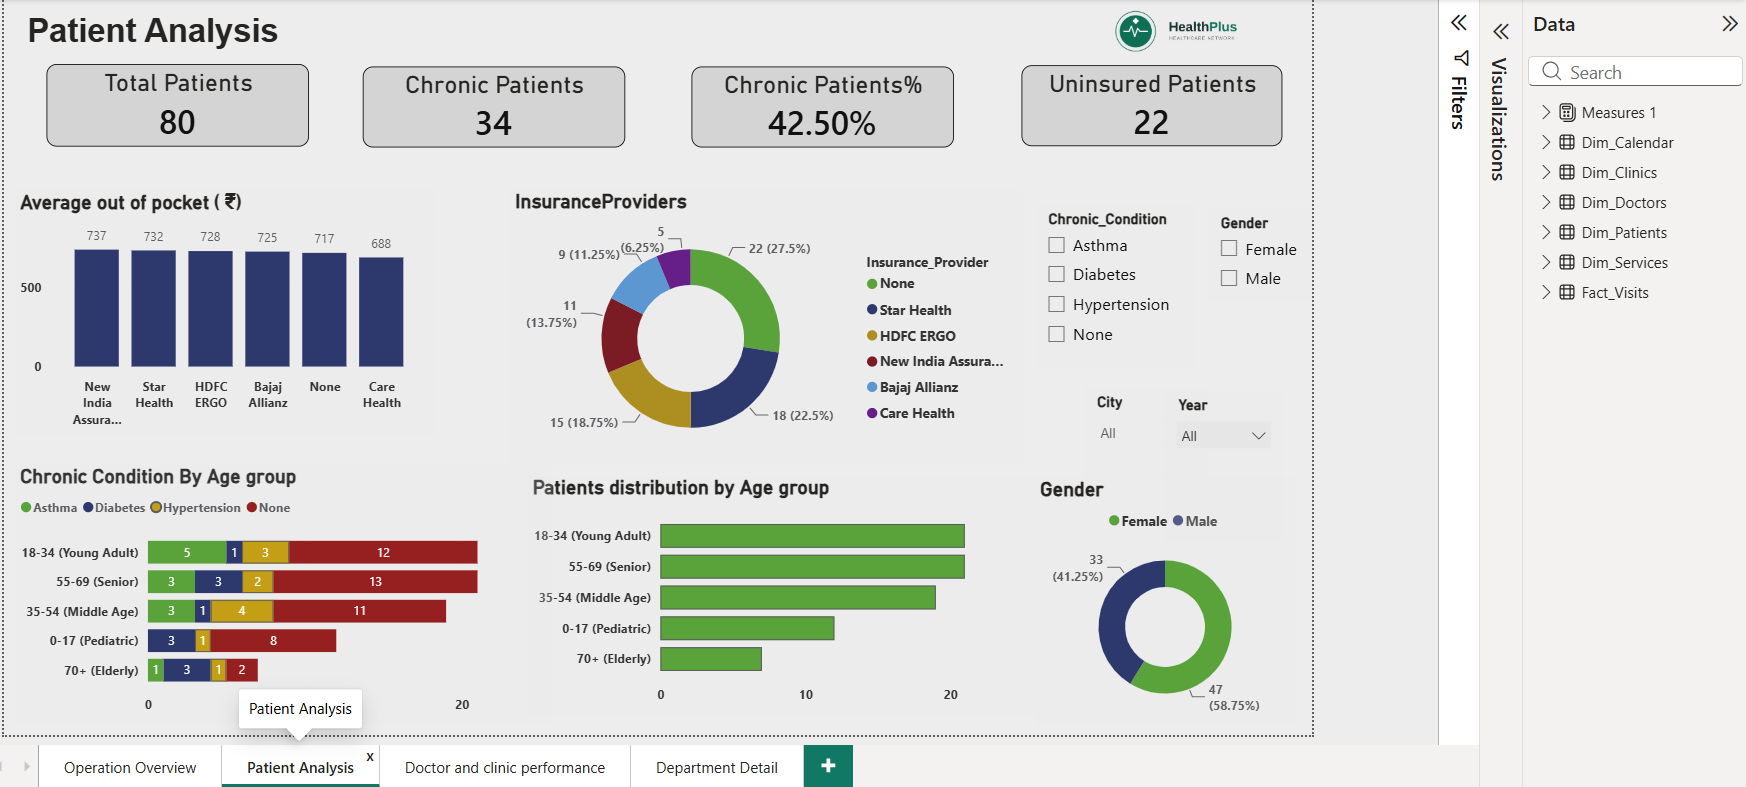

What the dashboard file says about the page in this screenshot:
{"tool":"powerbi","page":{"name":"Patient Analysis","canvas":[1280,720],"ordinal":1},"visuals":[{"type":"donutChart","title":"Gender","fields":{"Category":["Dim_Patients.Gender"],"Y":["Dim_Patients.Patients"]},"box":[1008.8,468.3,254.3,240.9],"z":0},{"type":"clusteredBarChart","title":"Patients distribution by Age group","fields":{"Category":["Dim_Patients.Age group"],"Y":["Dim_Patients.Patients"]},"box":[512.4,467.1,496.5,232.3],"z":1000},{"type":"barChart","title":" Chronic Condition By Age group","fields":{"Category":["Dim_Patients.Age group"],"Series":["Dim_Patients.Chronic_Condition"],"Y":["Dim_Patients.Patients"]},"box":[11,456.1,525.8,253.1],"z":2000},{"type":"donutChart","title":" InsuranceProviders","fields":{"Category":["Dim_Patients.Insurance_Provider"],"Y":["Dim_Patients.Patients"]},"box":[495.2,187.1,501.4,269],"z":3000},{"type":"clusteredColumnChart","title":" Average out of pocket ( ₹)","fields":{"Category":["Dim_Patients.Insurance_Provider"],"Y":["Fact_Visits.avg out of pocket"]},"box":[11,185.9,408.4,240.9],"z":4000},{"type":"cardVisual","title":"Total Patients","fields":{"Data":["Fact_Visits.Total Patients"]},"box":[41.6,63.6,256.8,80.7],"z":5000},{"type":"cardVisual","title":"Chronic Patients","fields":{"Data":["Measures 1.patient with chronic condition"]},"box":[351,66,256.8,79.5],"z":6000},{"type":"cardVisual","title":"Uninsured Patients","fields":{"Data":["Measures 1.Uninsured Patients"]},"box":[995.4,64.8,255.6,79.5],"z":7000},{"type":"slicer","fields":{"Values":["Dim_Patients.Gender"]},"box":[1177.6,205.4,102.7,90.5],"z":8000},{"type":"slicer","fields":{"Values":["Dim_Patients.Chronic_Condition"]},"box":[1008.8,201.8,157.7,157.7],"z":9000},{"type":"textbox","box":[0,8.6,1105.4,55],"z":10000},{"type":"slicer","fields":{"Values":["Dim_Clinics.City"]},"box":[1056.5,380.3,121.1,88],"z":11000},{"type":"slicer","fields":{"Values":["Dim_Calendar.Year"]},"box":[1136,384,113.7,145.5],"z":12000},{"type":"cardVisual","title":"Chronic Patients%","fields":{"Data":["Measures 1.chronic condition %"]},"box":[672.6,66,256.8,79.5],"z":13000},{"type":"image","box":[1072.1,0,207.9,63.6],"z":14000}]}

Visuals, with their boxes on the page's 1280x720 design canvas (x1, y1, x2, y2). These are canvas units, not pixel positions in the 1746x787 screenshot, which may show the page scaled, cropped or inside an application window:
"Gender" donutChart: x1=1009 y1=468 x2=1263 y2=709
"Patients distribution by Age group" clusteredBarChart: x1=512 y1=467 x2=1009 y2=699
" Chronic Condition By Age group" barChart: x1=11 y1=456 x2=537 y2=709
" InsuranceProviders" donutChart: x1=495 y1=187 x2=997 y2=456
" Average out of pocket ( ₹)" clusteredColumnChart: x1=11 y1=186 x2=419 y2=427
"Total Patients" cardVisual: x1=42 y1=64 x2=298 y2=144
"Chronic Patients" cardVisual: x1=351 y1=66 x2=608 y2=146
"Uninsured Patients" cardVisual: x1=995 y1=65 x2=1251 y2=144
slicer - Dim_Patients.Gender: x1=1178 y1=205 x2=1280 y2=296
slicer - Dim_Patients.Chronic_Condition: x1=1009 y1=202 x2=1166 y2=360
textbox: x1=0 y1=9 x2=1105 y2=64
slicer - Dim_Clinics.City: x1=1056 y1=380 x2=1178 y2=468
slicer - Dim_Calendar.Year: x1=1136 y1=384 x2=1250 y2=530
"Chronic Patients%" cardVisual: x1=673 y1=66 x2=929 y2=146
image: x1=1072 y1=0 x2=1280 y2=64
